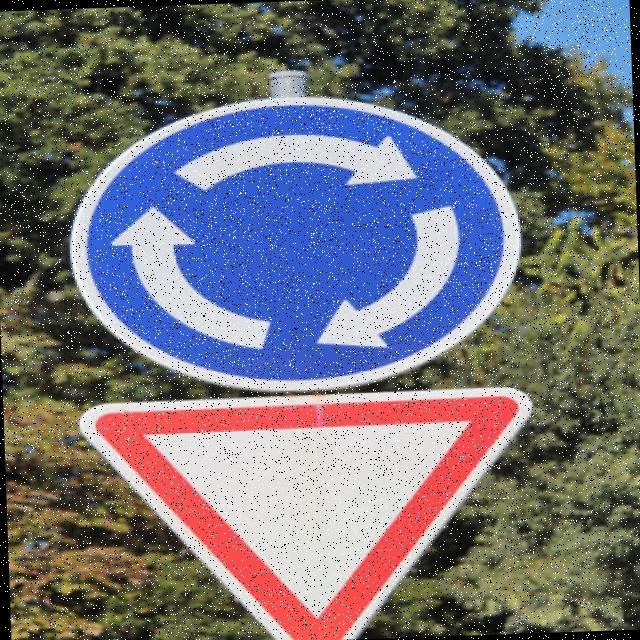give_way: (76, 371, 567, 640)
